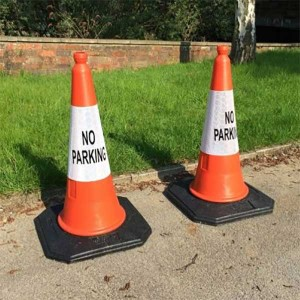traffic cone: (32, 51, 152, 264), (163, 44, 275, 226)
